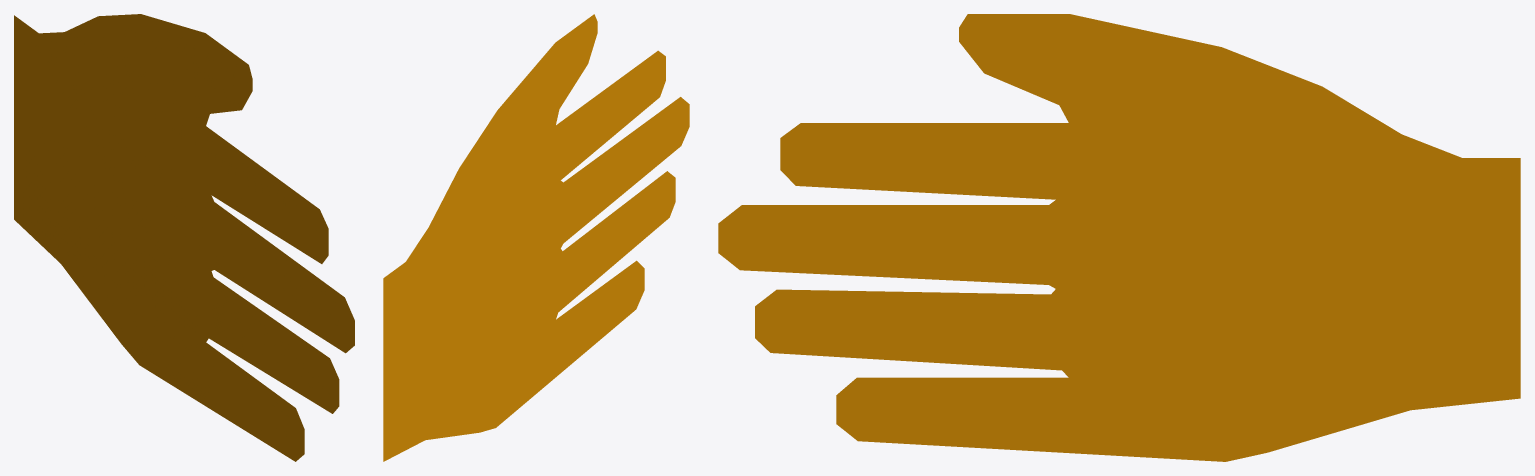
The model's file is traffic_light_4_stop_sign.dae.
3 views of the same model, side by side, from view 1: azimuth 30°, elevation 25°; view 2: azimuth 150°, elevation 25°; view 3: azimuth 270°, elevation 25° (orthographic). The views are drawn at different scales.
Visible parts, largest first — view 1: coords_ME_ID3_MA_material; view 2: coords_ME_ID3_MA_material; view 3: coords_ME_ID3_MA_material.
Boxes of the visible parts, <box> form: coords_ME_ID3_MA_material: <box>14,14,354,461</box>; coords_ME_ID3_MA_material: <box>383,14,689,461</box>; coords_ME_ID3_MA_material: <box>718,14,1520,461</box>.
Size of the model in its own units: 0 by 4.06 by 6.58.
